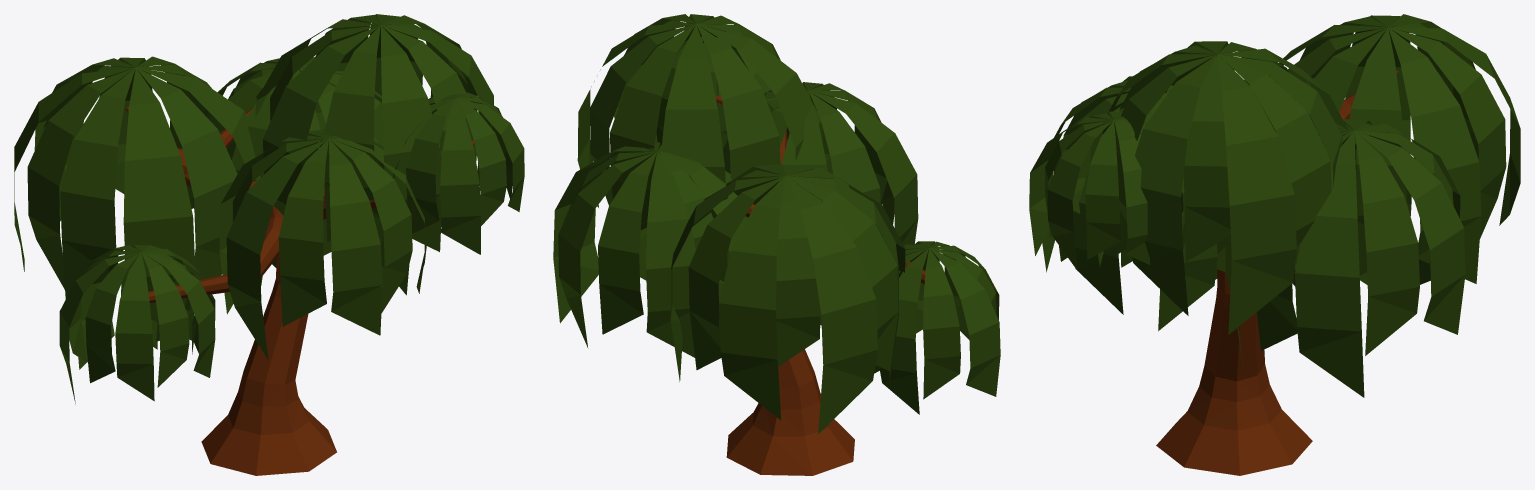
The model's file is JungleTree.obj.
3 renders of one model, left to right at view 1: azimuth 30°, elevation 25°; view 2: azimuth 150°, elevation 25°; view 3: azimuth 270°, elevation 25°, orthographic. The views are drawn at different scales.
Parts seen in each view (by area): view 1: JungleTree_Vert.004; view 2: JungleTree_Vert.004; view 3: JungleTree_Vert.004.
Part boxes in pixels (x1,y1,x2,y2): JungleTree_Vert.004: (14, 14, 524, 475); JungleTree_Vert.004: (553, 14, 1000, 475); JungleTree_Vert.004: (1029, 14, 1520, 475).
Bounding box in the file's own units: 12.95 × 12.05 × 12.03.
